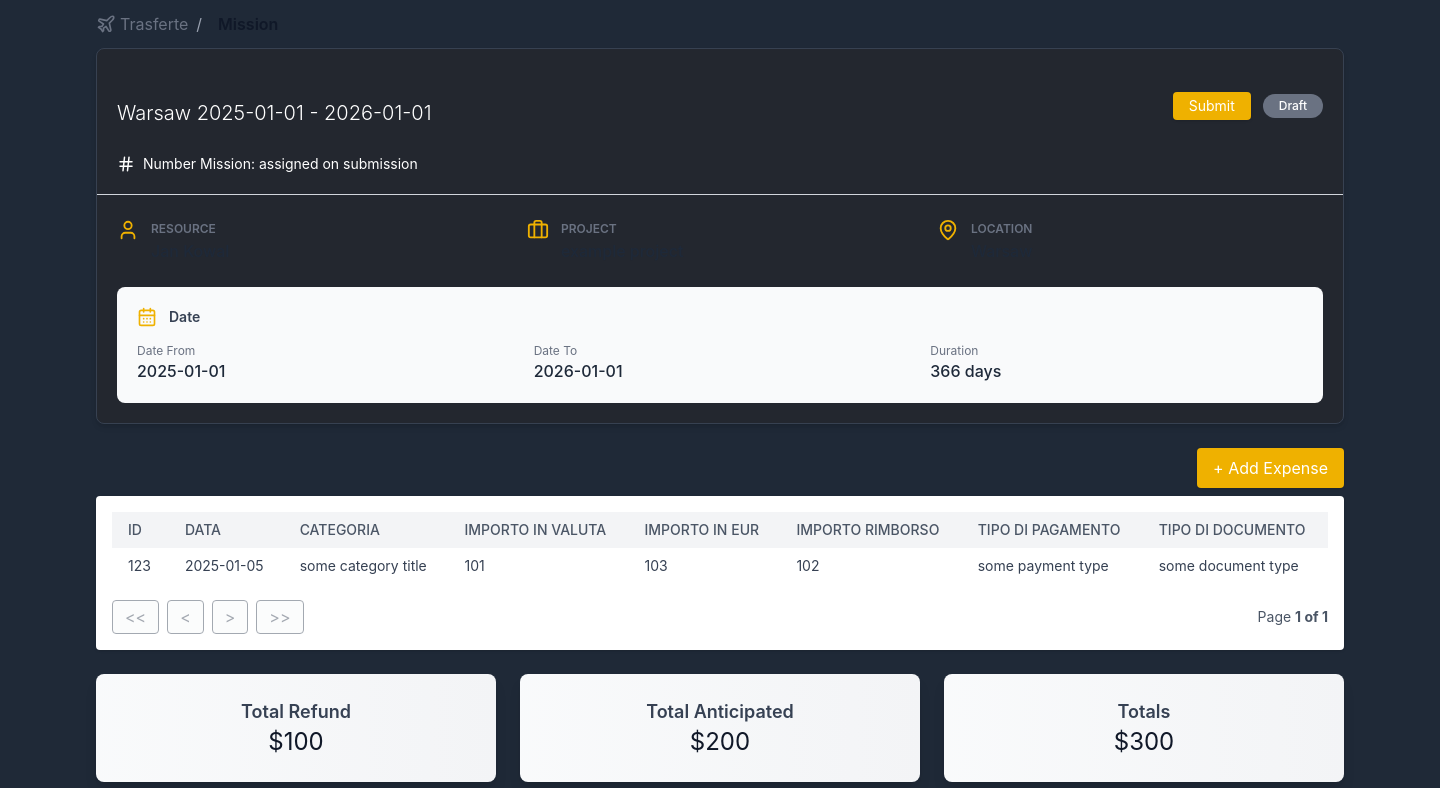
Test: Mission › shows submit errors
Click the button with test id "submit-mission-button": (1212, 106) [1173,92,1251,120]
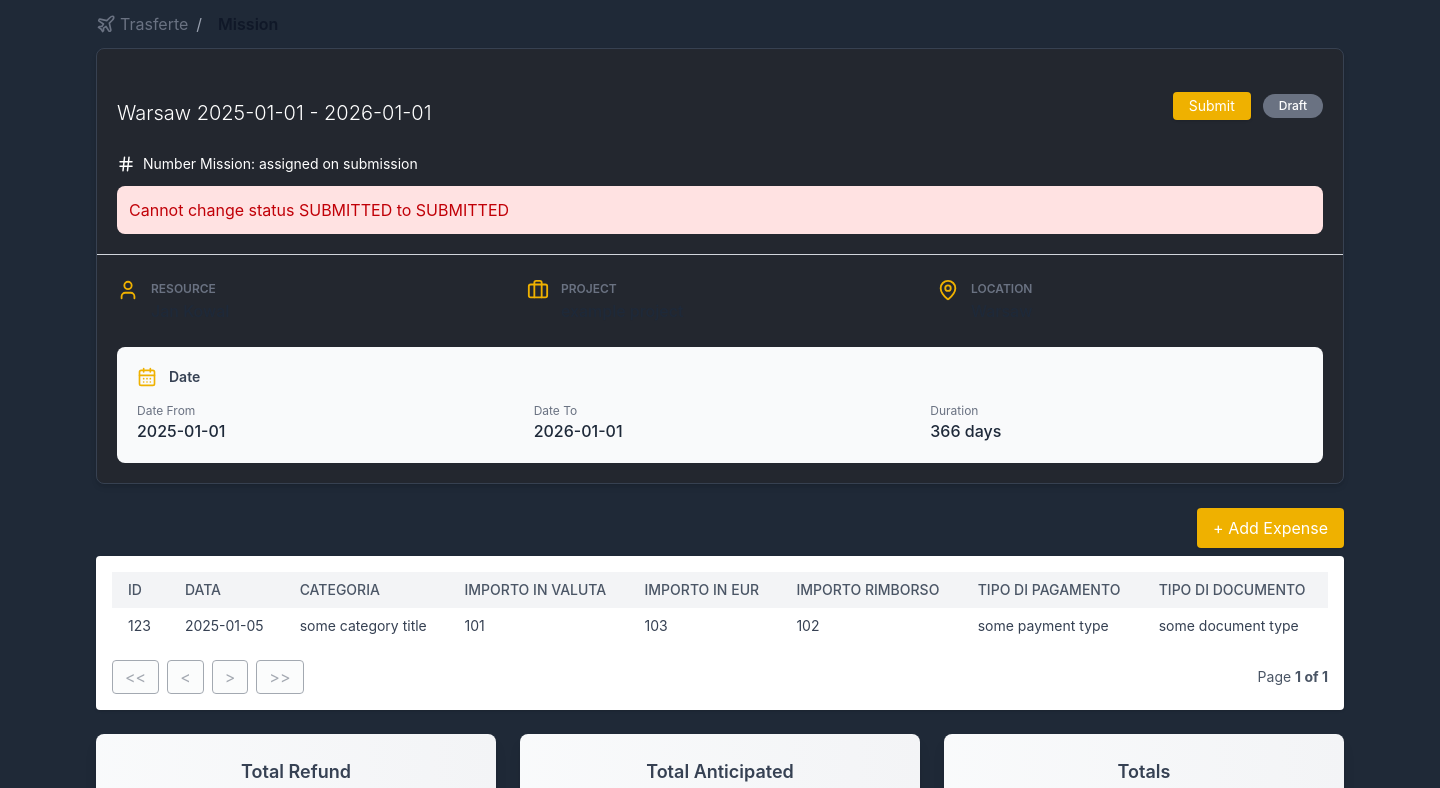
Result: the element with test id "submit-mission-errors" shows "Cannot change status" at [129,200,509,220]
